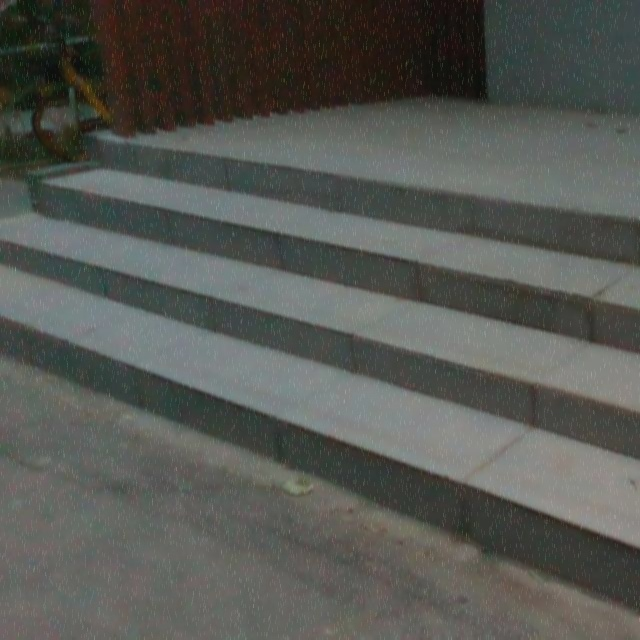stair: (18, 130, 640, 601)
